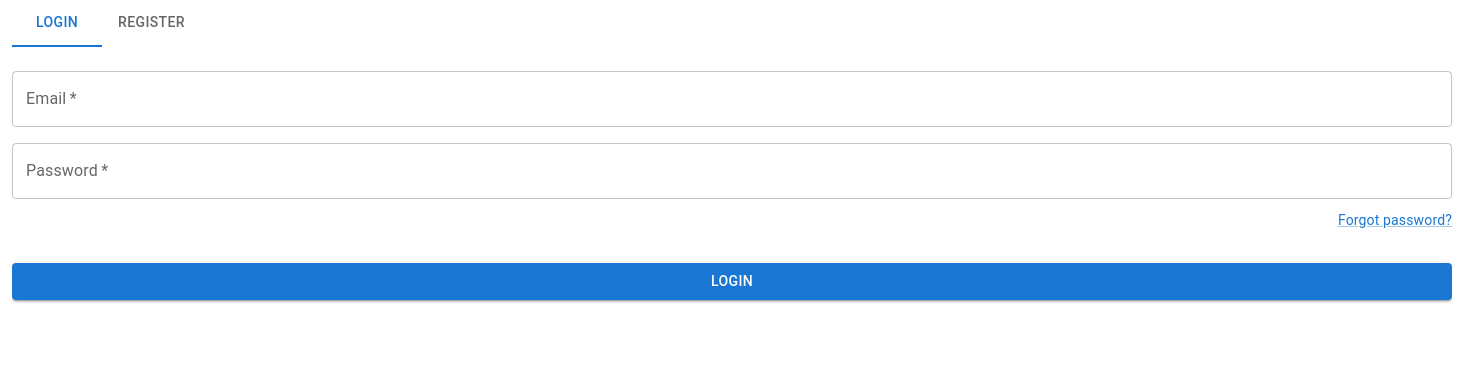
Test: LoginForm › should display error when login fails with no token
Type "test@example.com" into the field labelled "Email *" at (732, 99), box 12,71 -> 1452,127
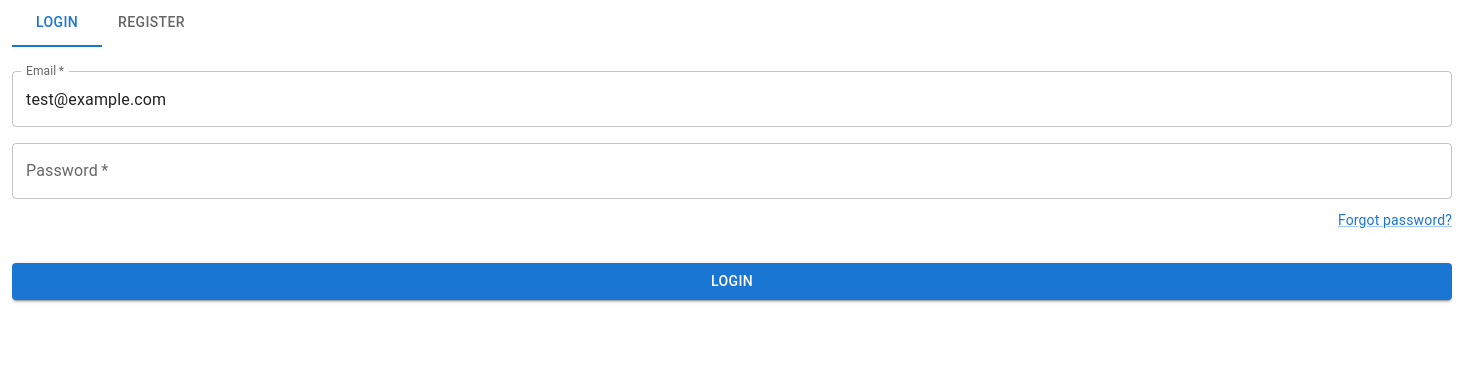
Type "password123" into the password field labelled "Password *" at (732, 171), box 12,143 -> 1452,199
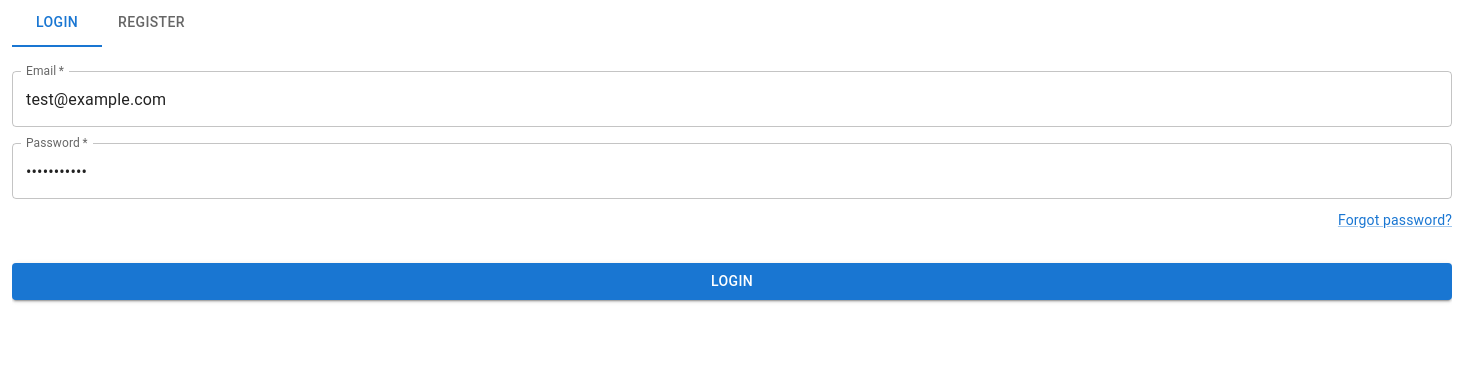
Click the button "Login" at (732, 281), box 12,263 -> 1452,300
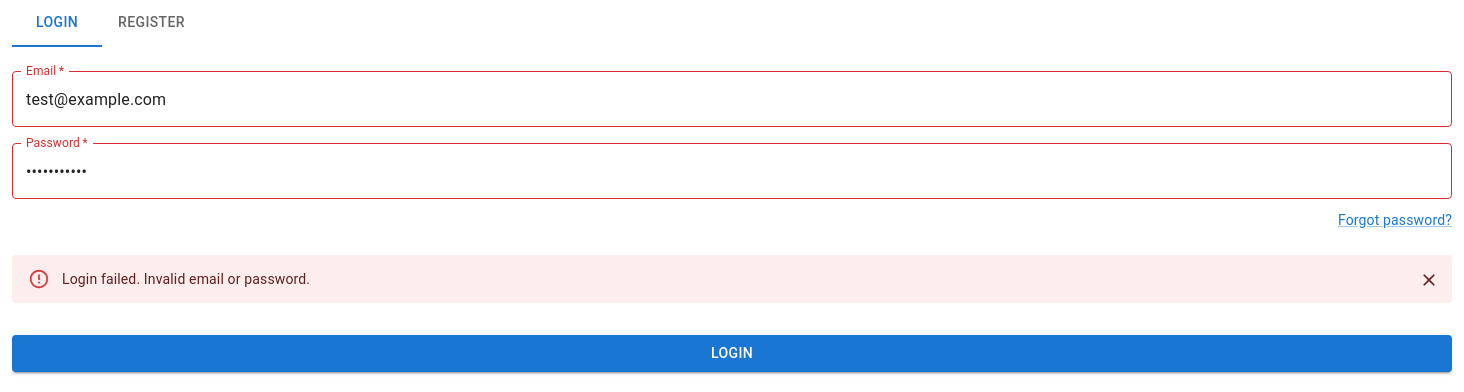
Now the message "Login failed. Invalid email or password." is shown, box 12,255 -> 1452,303
Now the message reads "Login failed. Invalid email or password.", box 62,271 -> 310,287
